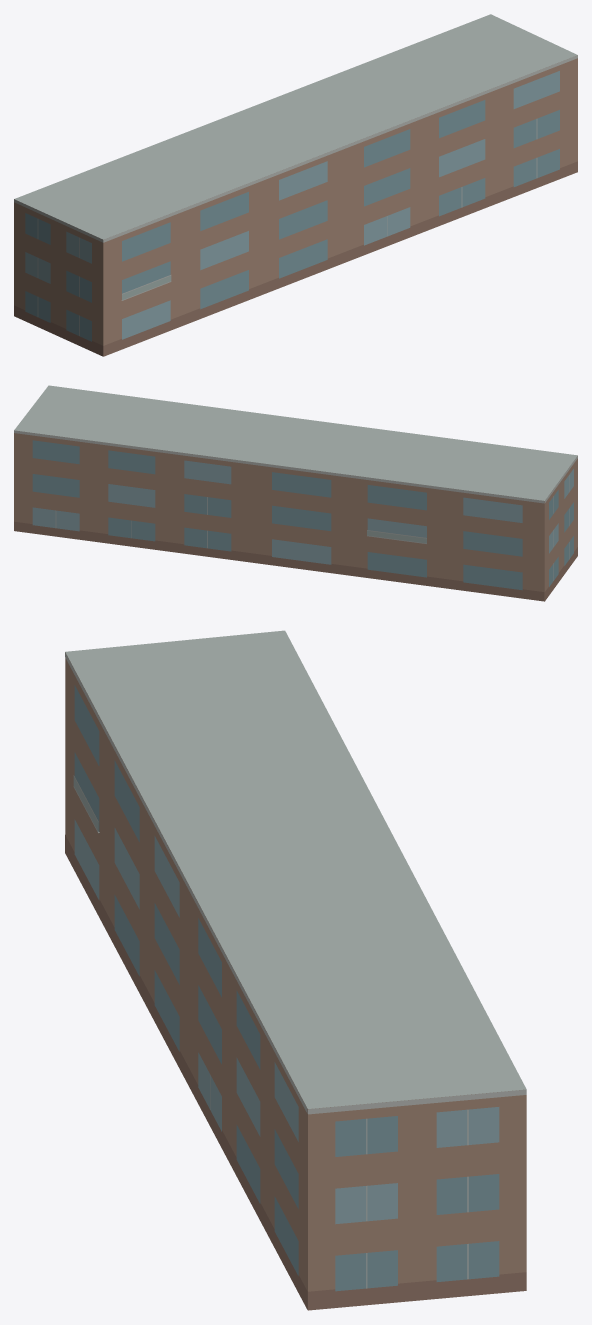
The model's file is survey-upis-32624351.glb.
3 renders of one model, top to bottom at view 1: azimuth 30°, elevation 25°; view 2: azimuth 150°, elevation 25°; view 3: azimuth 270°, elevation 25°, orthographic. The views are drawn at different scales.
Parts seen in each view (by area): view 1: survey-upis-32624351.tmp; view 2: survey-upis-32624351.tmp; view 3: survey-upis-32624351.tmp.
Boxes of the visible parts, x1,y1,x2,y2 form: survey-upis-32624351.tmp: (14,14,577,356); survey-upis-32624351.tmp: (14,385,577,601); survey-upis-32624351.tmp: (65,630,526,1310).
Size of the model in its own units: 46.66 by 9.15 by 19.02.
